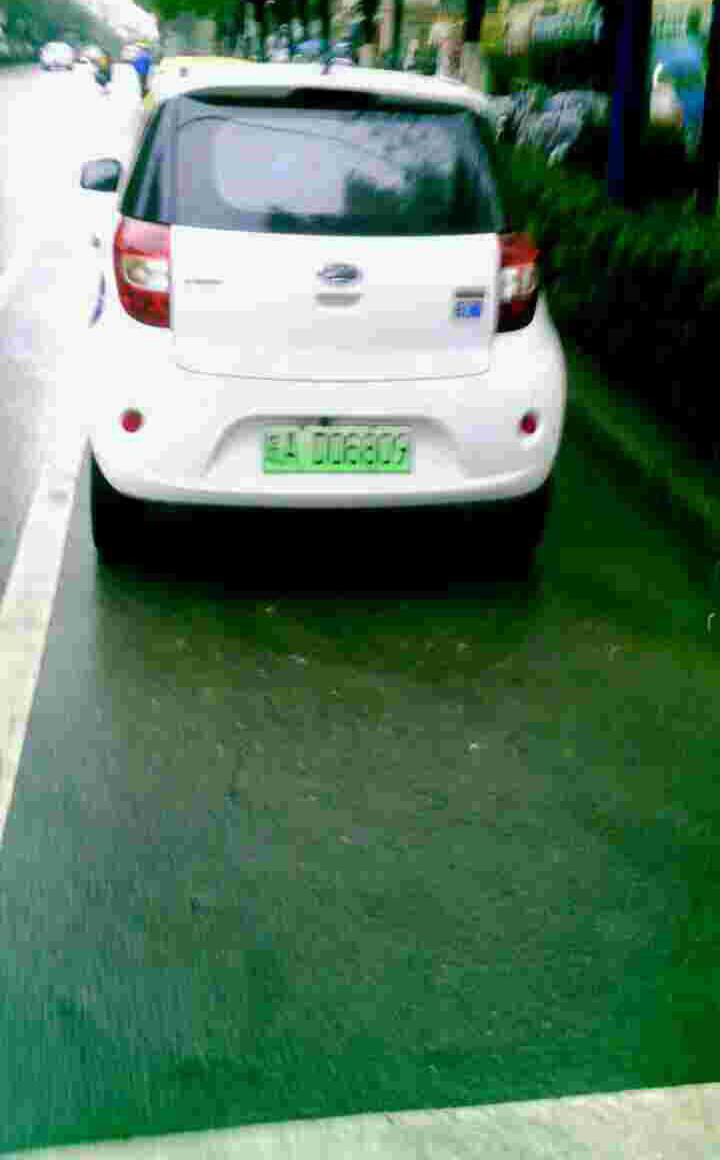car_id: (259, 422, 412, 471)
